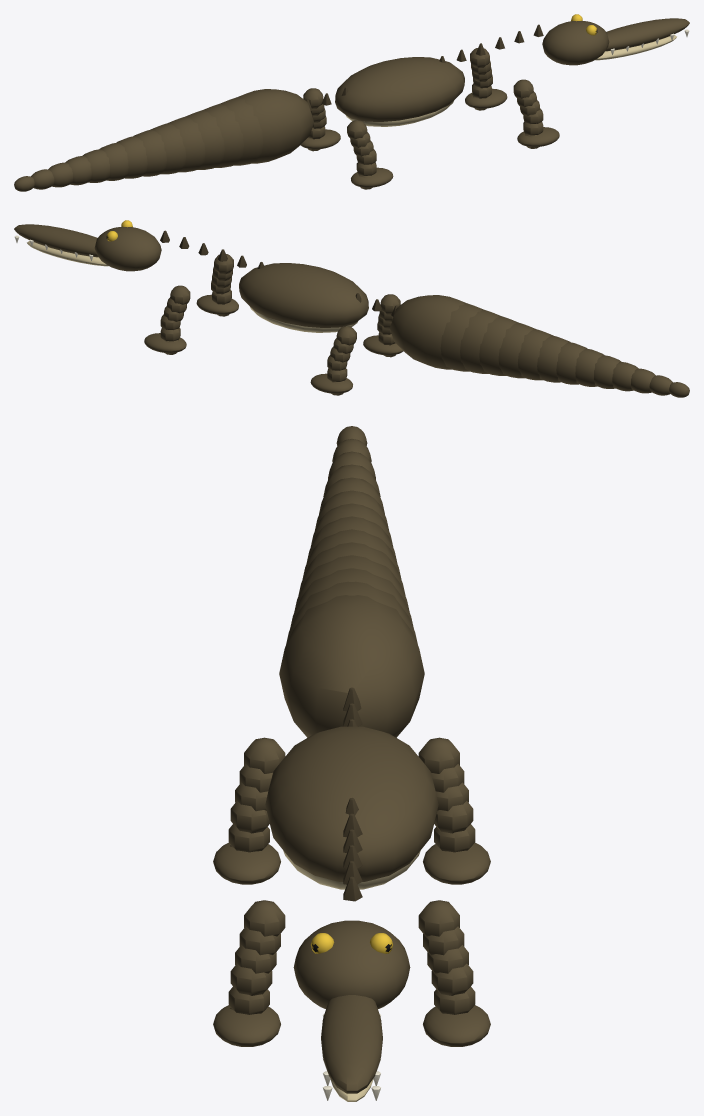
The model's file is purussaurus.glb.
3 views of the same model, one above another, from view 1: azimuth 30°, elevation 25°; view 2: azimuth 150°, elevation 25°; view 3: azimuth 270°, elevation 25° (orthographic). The views are drawn at different scales.
Visible parts, largest first — view 1: purussaurus; view 2: purussaurus; view 3: purussaurus.
Part boxes in pixels (left/top/right/bottom): purussaurus: left=14, top=14, right=689, bottom=191; purussaurus: left=14, top=220, right=689, bottom=397; purussaurus: left=213, top=426, right=490, bottom=1101.
Bounding box in the file's own units: 6.41 × 0.875 × 1.14.
